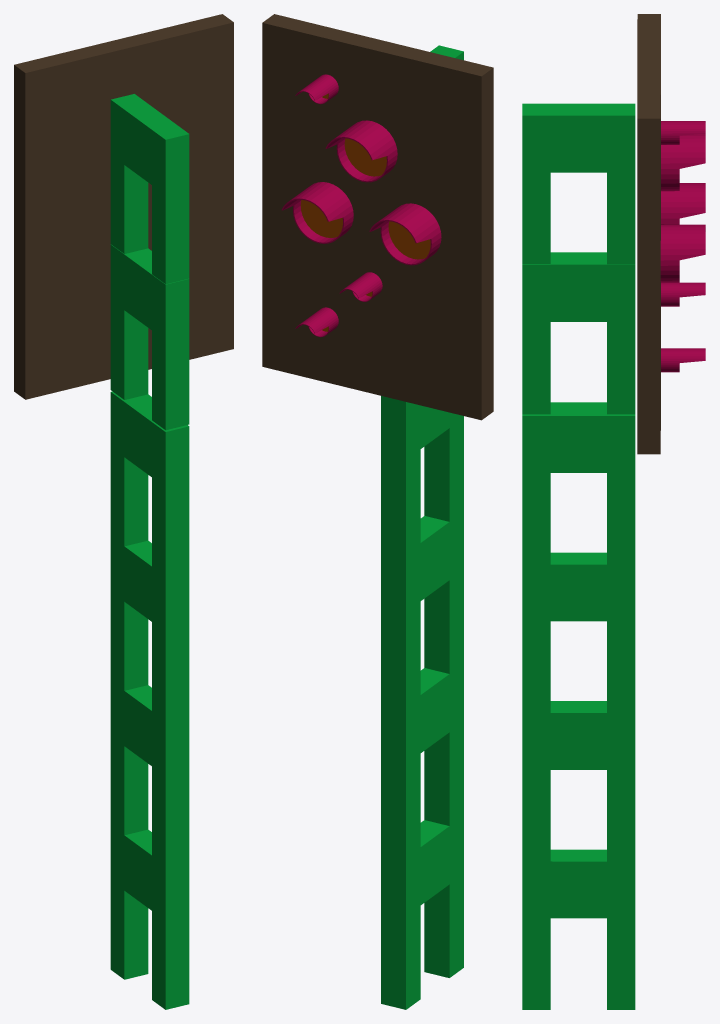
The model's file is advtrains_signals_ks_main_smr0.obj.
3 views of the same model, side by side, from view 1: azimuth 30°, elevation 25°; view 2: azimuth 150°, elevation 25°; view 3: azimuth 270°, elevation 25° (orthographic). The views are drawn at different scales.
Parts seen in each view (by area): view 1: KsHauptsignal_Plane.006; view 2: KsHauptsignal_Plane.006; view 3: KsHauptsignal_Plane.006.
Boxes of the visible parts, x1,y1,x2,y2 form: KsHauptsignal_Plane.006: (14,14,233,1009); KsHauptsignal_Plane.006: (262,14,493,1009); KsHauptsignal_Plane.006: (522,14,705,1009).
Size of the model in its own units: 0.5 by 2.1 by 0.3706.
